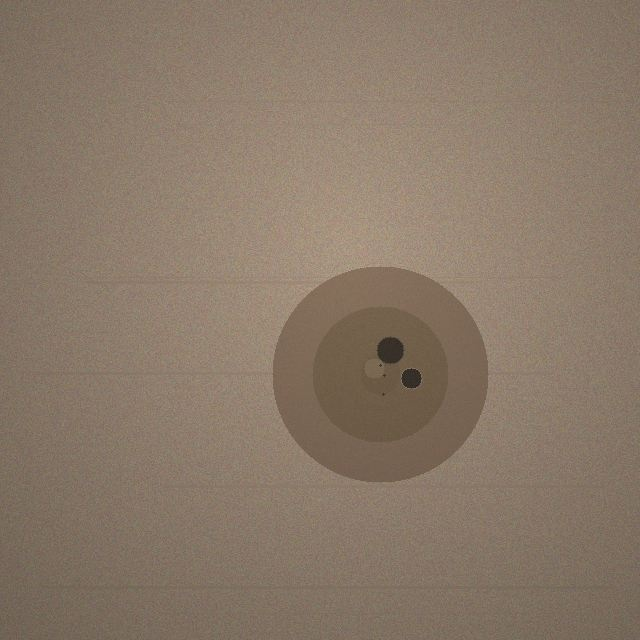shrinkage: (272, 266, 488, 482)
